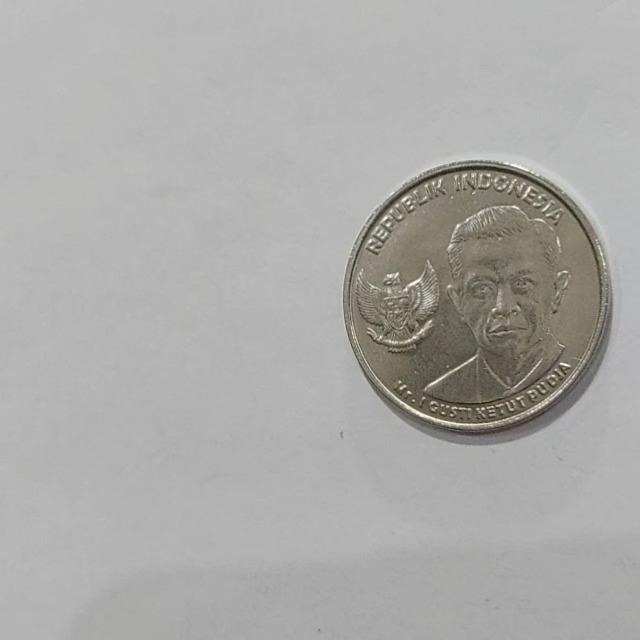Rp100: (343, 158, 612, 437), (416, 201, 574, 409)
